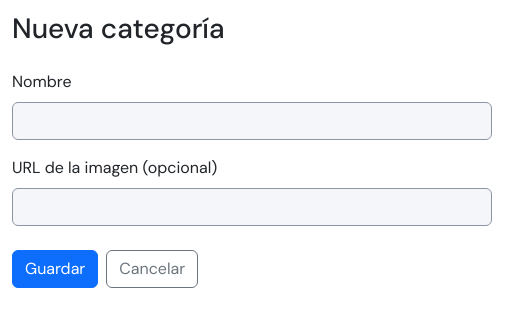
Test case: CategoriaForm › no permite un nombre repetido
Type "audio" into the field labelled "Nombre". click: coordinates (252, 121)
box: [12,102,492,140]
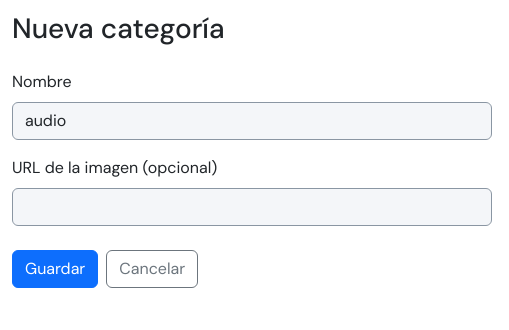
Click the button "Guardar". click: coordinates (55, 269)
box: [12,250,98,288]
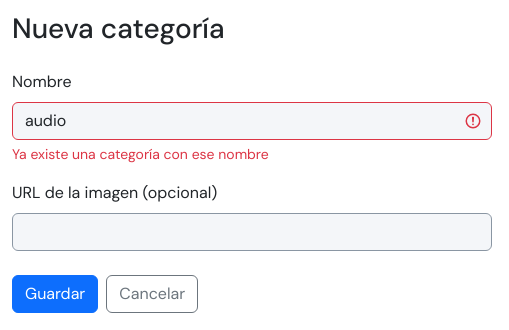
Expected: the text "Ya existe una categoría con ese nombre" is shown, [12,145,269,163]
